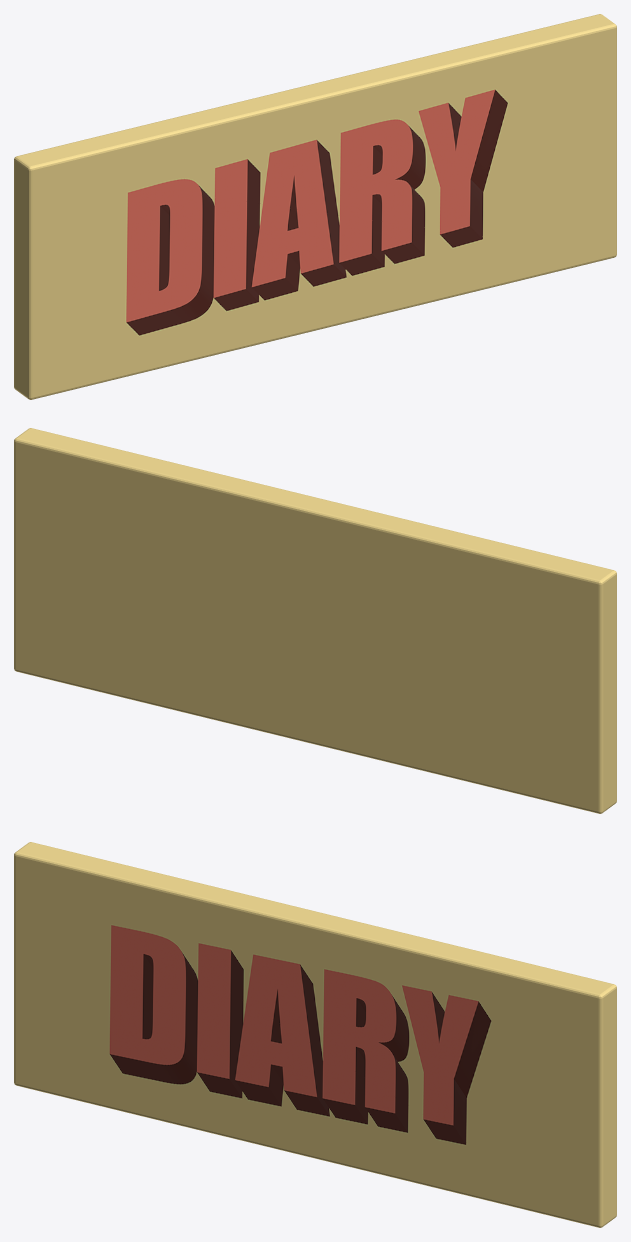
File: diary.fbx
3 views of the same model, one above another, from view 1: azimuth 30°, elevation 25°; view 2: azimuth 150°, elevation 25°; view 3: azimuth 330°, elevation 25° (orthographic).
Parts seen in each view (by area): view 1: diary; view 2: diary; view 3: diary.
Part boxes in pixels (x1,y1,x2,y2): diary: [14, 14, 616, 399]; diary: [14, 428, 616, 813]; diary: [14, 842, 616, 1227].
Bounding box in the file's own units: 102 × 38.8 × 5.
1 material, 1 textured.
